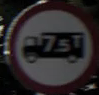Heavy Vehicles: (9, 10, 93, 70)
